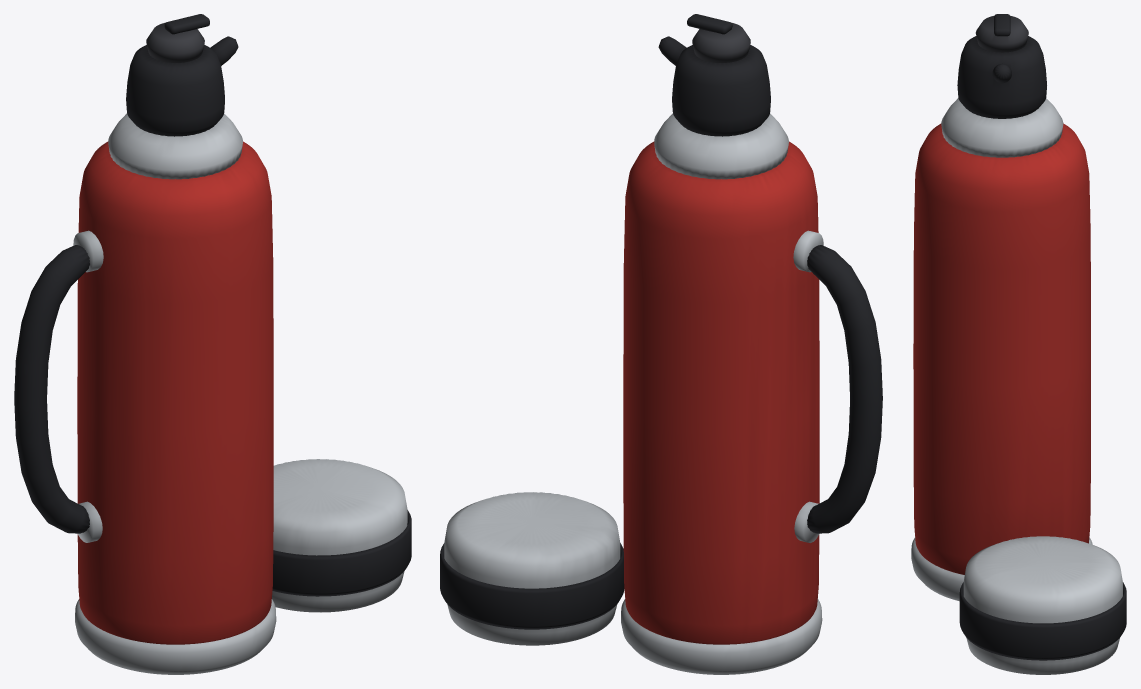
File: prop_termo.glb
The picture shows the model from 3 angles, left to right: view 1: azimuth 30°, elevation 25°; view 2: azimuth 150°, elevation 25°; view 3: azimuth 270°, elevation 25°; orthographic projection. The views are drawn at different scales.
Parts seen in each view (by area): view 1: prop_termo; view 2: prop_termo; view 3: prop_termo.
Part boxes in pixels (<box>): prop_termo: <box>14,14,411,674</box>; prop_termo: <box>440,14,882,674</box>; prop_termo: <box>911,14,1126,674</box>.
Bounding box in the file's own units: 0.207 × 0.301 × 0.1053.
